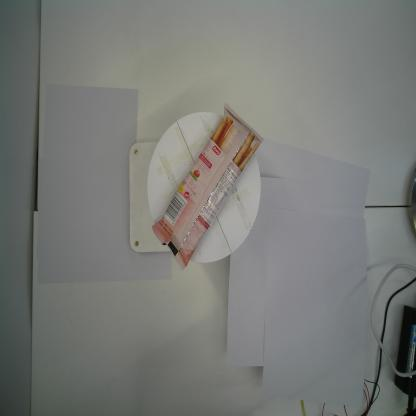Dessert: (152, 100, 265, 272)
